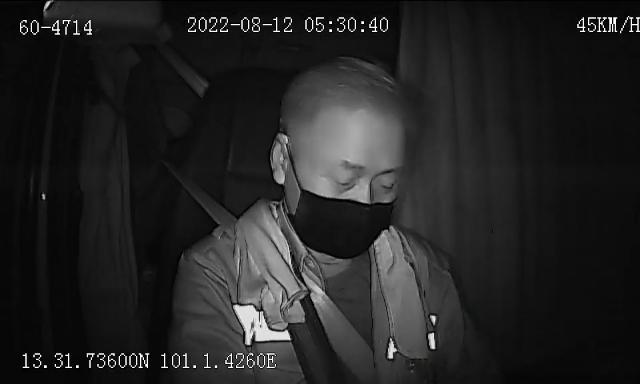Seatbelt: (183, 180, 295, 384)
